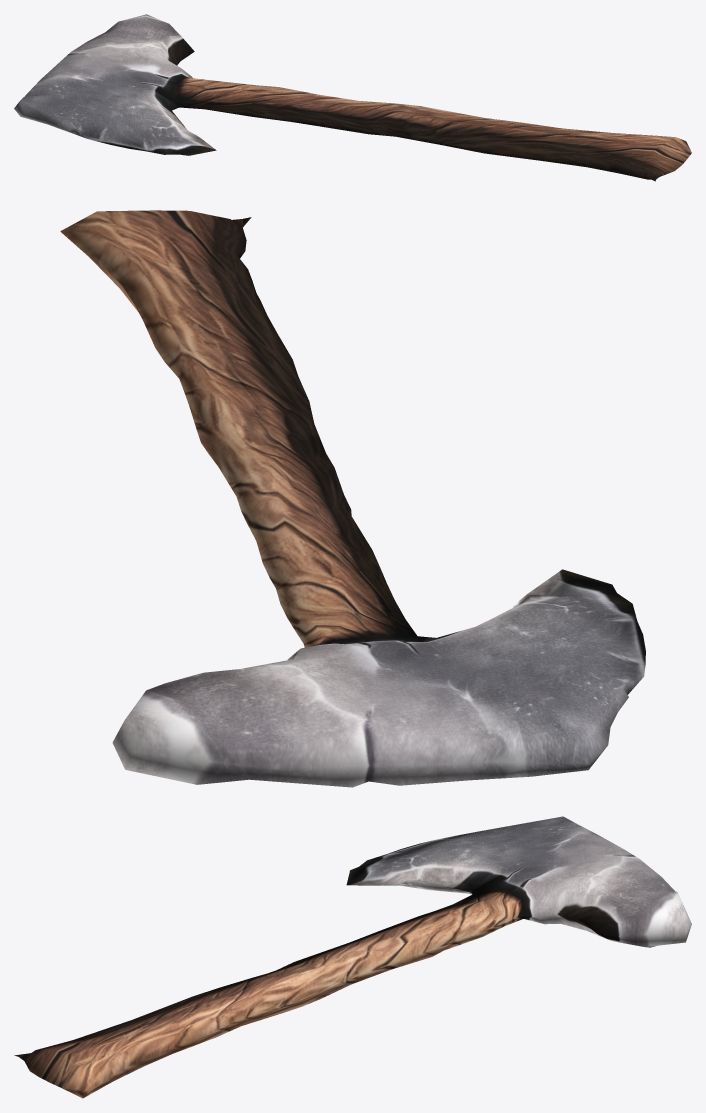
Rendered from AxeDisplacement.glb.
The picture shows the model from 3 angles, top to bottom: view 1: azimuth 30°, elevation 25°; view 2: azimuth 150°, elevation 25°; view 3: azimuth 270°, elevation 25°; orthographic projection. The views are drawn at different scales.
Parts seen in each view (by area): view 1: Plane.003; view 2: Plane.003; view 3: Plane.003.
Boxes of the visible parts, x1,y1,x2,y2 form: Plane.003: [14, 14, 691, 181]; Plane.003: [60, 210, 645, 787]; Plane.003: [14, 816, 691, 1098].
Bounding box in the file's own units: 0.1749 × 0.0147 × 0.1867.
Materials: 1 (1 with a texture image).
